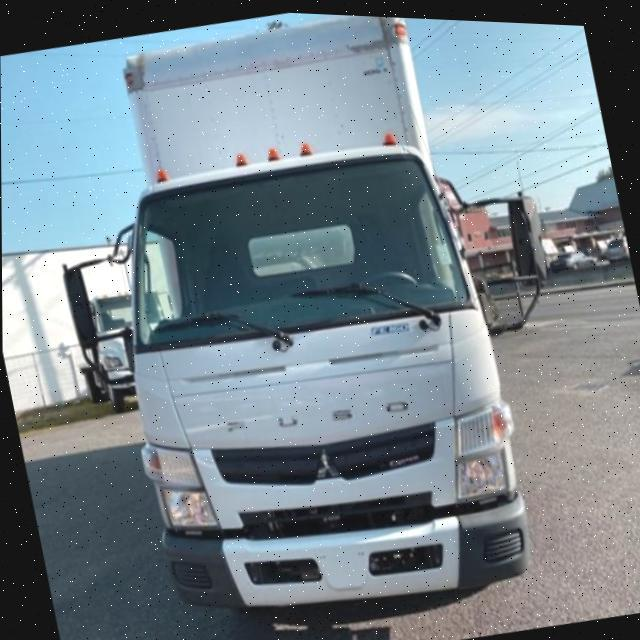truck: (17, 1, 598, 640)
